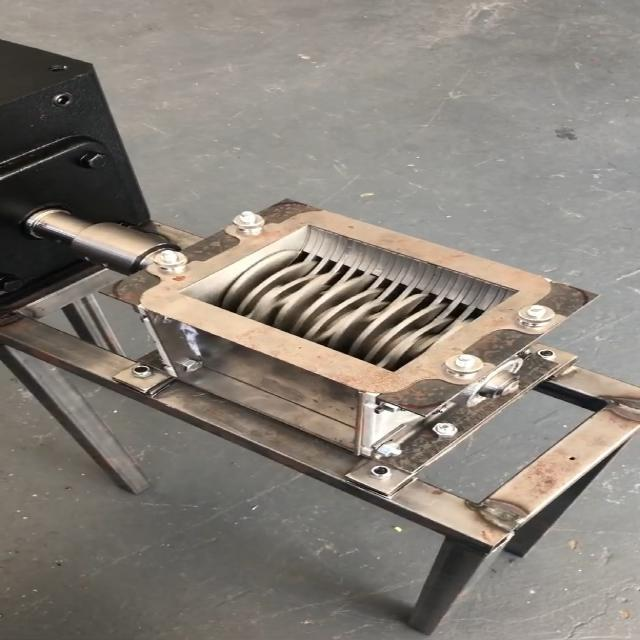Broyeur: (139, 211, 547, 392)
